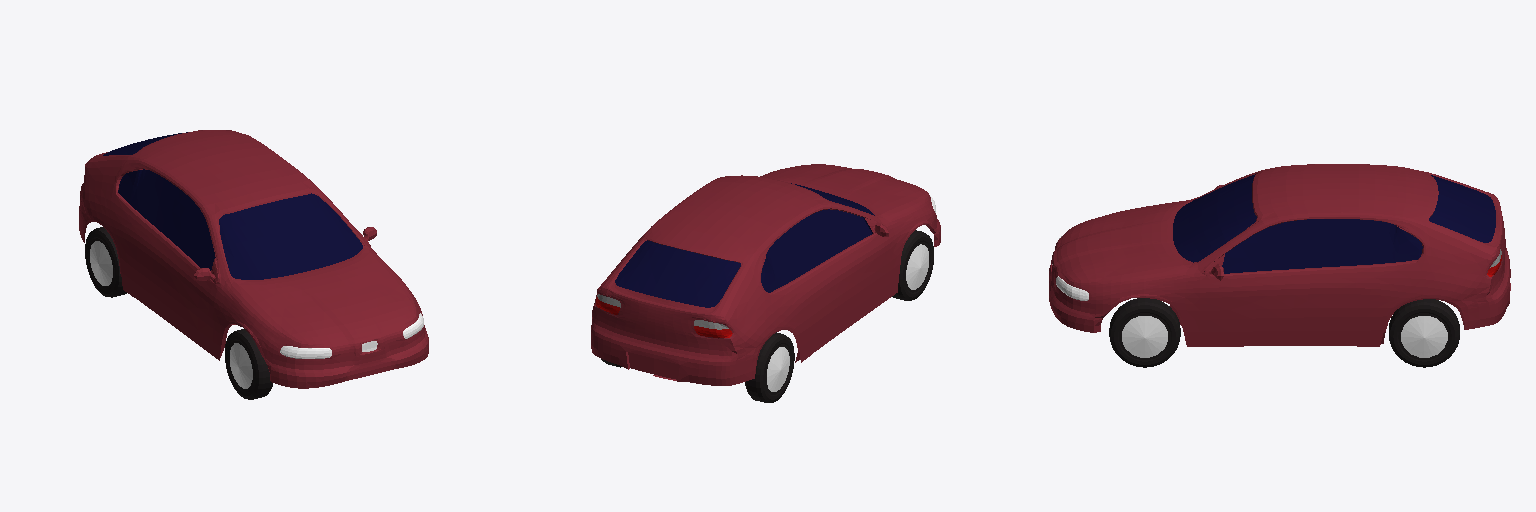
File: Car01.obj
3 views of the same model, side by side, from view 1: azimuth 30°, elevation 25°; view 2: azimuth 150°, elevation 25°; view 3: azimuth 270°, elevation 25° (orthographic).
Visible parts, largest first — view 1: car_Plane_chapa_roja_2, car_Plane_cristales_5, car_Plane_neumaticos_3, car_Plane_llantas_4, 6; view 2: car_Plane_chapa_roja_2, car_Plane_cristales_5, car_Plane_neumaticos_3, car_Plane_llantas_4; view 3: car_Plane_chapa_roja_2, car_Plane_cristales_5, car_Plane_neumaticos_3, car_Plane_llantas_4.
Boxes of the visible parts, <box> form: car_Plane_chapa_roja_2: <box>79,130,428,388</box>; car_Plane_cristales_5: <box>103,132,362,279</box>; car_Plane_neumaticos_3: <box>85,227,272,399</box>; car_Plane_llantas_4: <box>90,241,252,388</box>; 6: <box>280,313,423,358</box>; car_Plane_chapa_roja_2: <box>591,164,940,385</box>; car_Plane_cristales_5: <box>615,183,874,307</box>; car_Plane_neumaticos_3: <box>601,230,933,402</box>; car_Plane_llantas_4: <box>767,244,928,391</box>; car_Plane_chapa_roja_2: <box>1049,164,1510,346</box>; car_Plane_cristales_5: <box>1173,174,1495,273</box>; car_Plane_neumaticos_3: <box>1109,298,1459,367</box>; car_Plane_llantas_4: <box>1122,316,1447,357</box>.
Size of the model in its own units: 192 by 146 by 419.